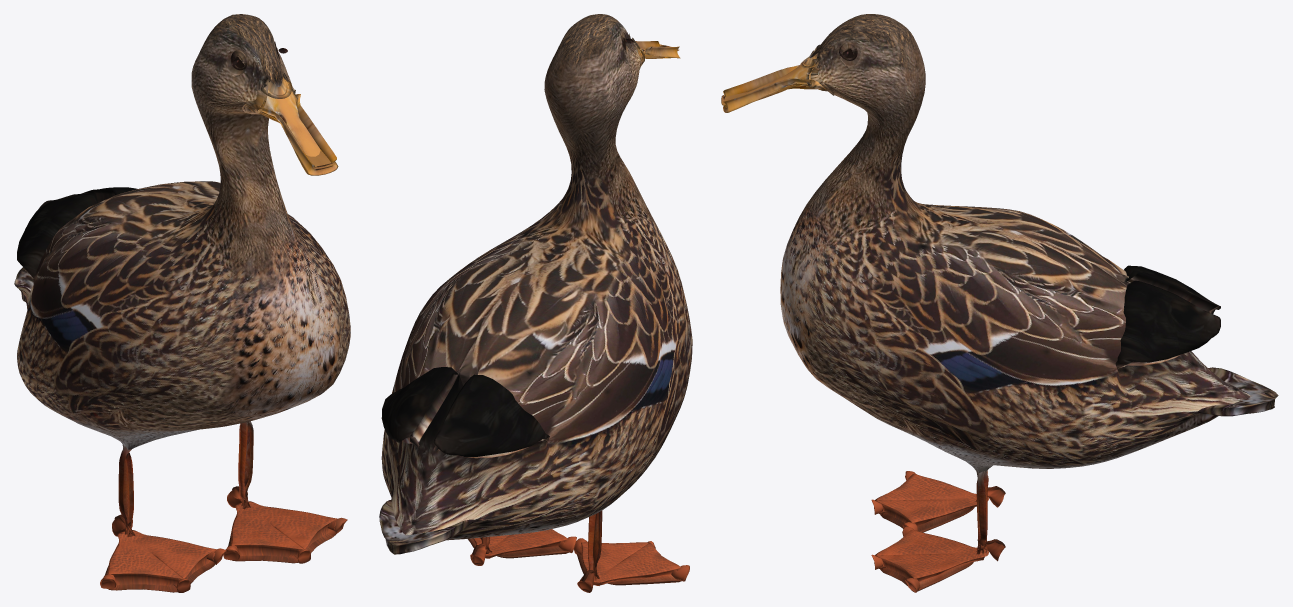
The model's file is rata.obj.
3 renders of one model, left to right at view 1: azimuth 30°, elevation 25°; view 2: azimuth 150°, elevation 25°; view 3: azimuth 270°, elevation 25°, orthographic. The views are drawn at different scales.
Visible parts, largest first — view 1: 12249_Bird_v1_L2; view 2: 12249_Bird_v1_L2; view 3: 12249_Bird_v1_L2.
Part boxes in pixels (x1,y1,x2,y2): 12249_Bird_v1_L2: [14, 14, 350, 592]; 12249_Bird_v1_L2: [379, 14, 692, 592]; 12249_Bird_v1_L2: [721, 14, 1278, 592].
Size of the model in its own units: 2.92 by 6.06 by 5.82.
1 material, 1 textured.
